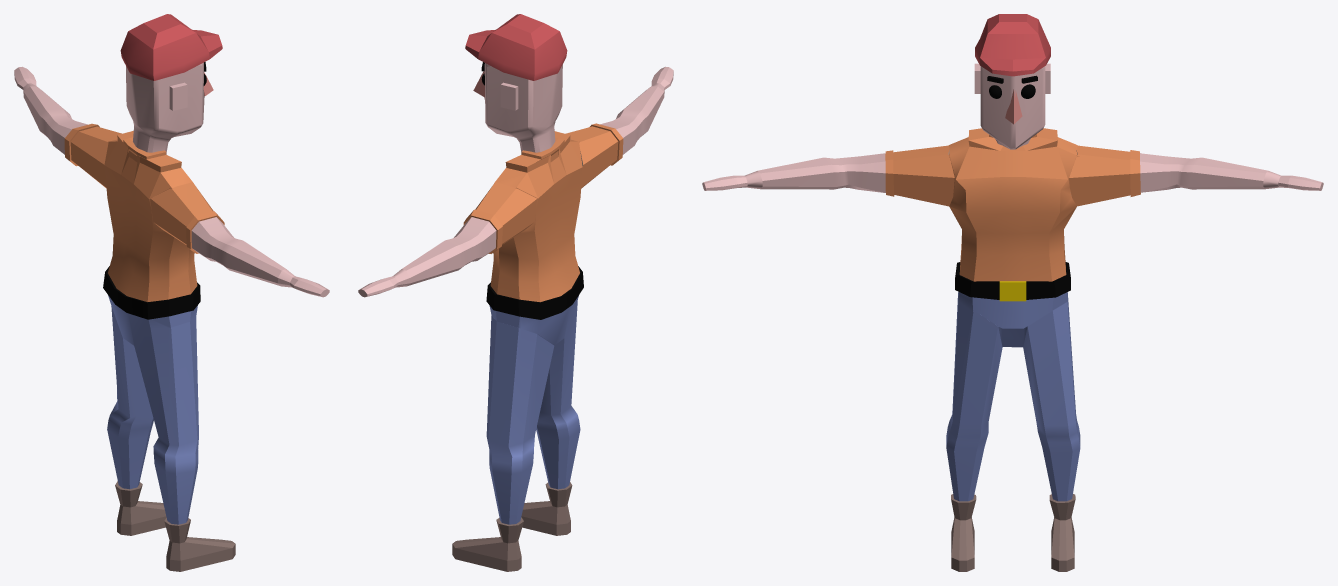
Rendered from personaje2.fbx.
3 renders of one model, left to right at view 1: azimuth 30°, elevation 25°; view 2: azimuth 150°, elevation 25°; view 3: azimuth 270°, elevation 25°, orthographic.
Visible parts, largest first — view 1: polySurface4, pCube10, pCube14, pCube20; view 2: polySurface4, pCube10, pCube14, pCube19; view 3: polySurface4, pCube14, pCube10.
Boxes of the visible parts, x1,y1,x2,y2 form: polySurface4: [14, 66, 329, 571]; pCube10: [126, 62, 204, 154]; pCube14: [120, 14, 222, 80]; pCube20: [169, 82, 187, 110]; polySurface4: [358, 66, 673, 571]; pCube10: [484, 63, 562, 152]; pCube14: [465, 14, 567, 80]; pCube19: [500, 82, 518, 110]; polySurface4: [702, 128, 1323, 571]; pCube14: [975, 14, 1050, 76]; pCube10: [980, 66, 1045, 149].
Bounding box in the file's own units: 2.75 × 13.85 × 14.64.
